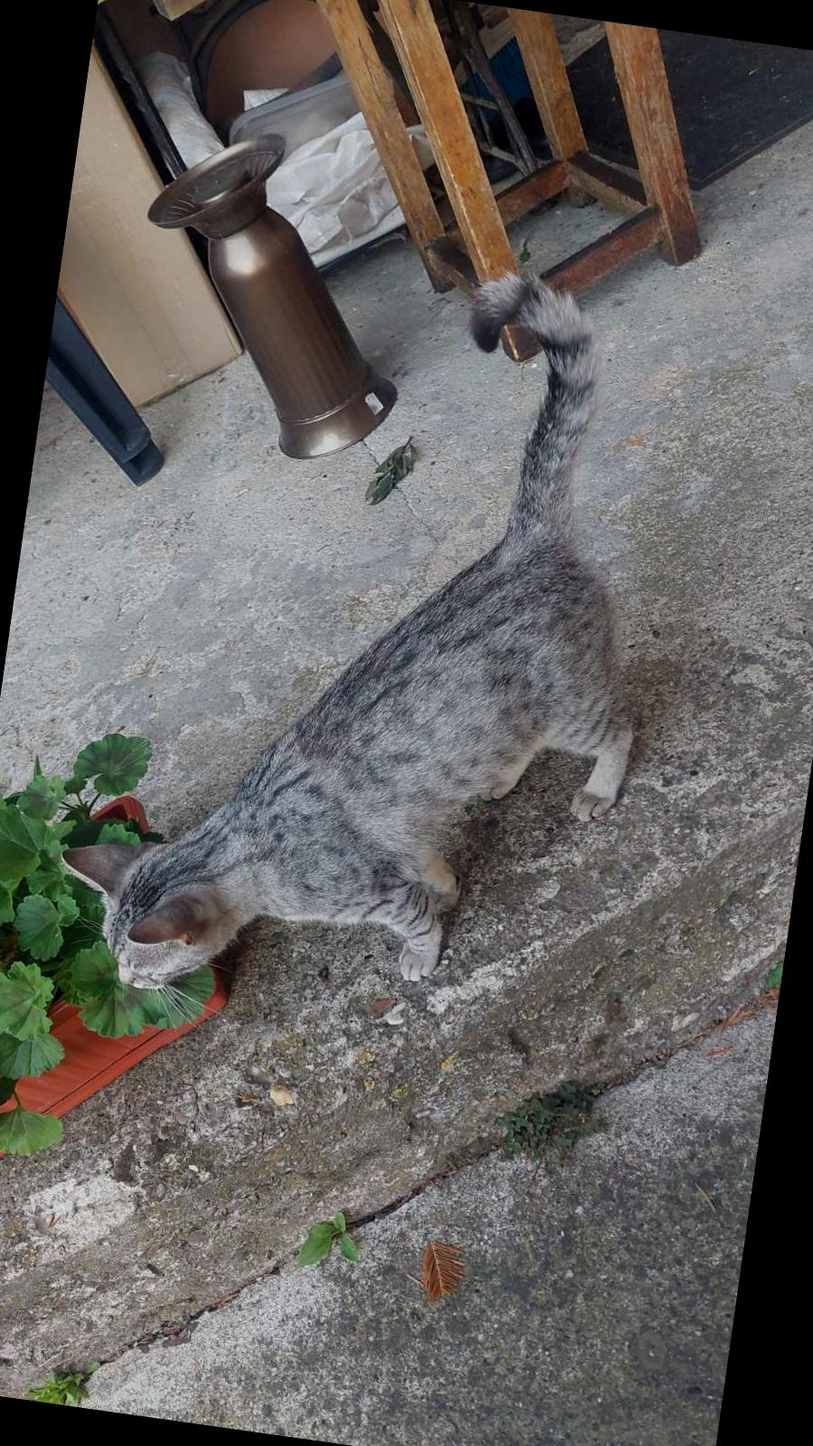macka: (40, 223, 703, 1061)
